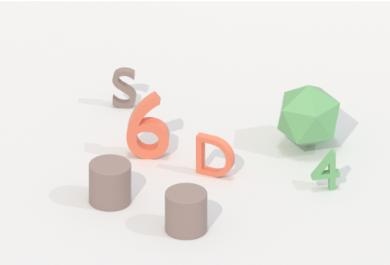0-KhoiTru: (161, 179, 214, 244), (85, 152, 136, 216)
0-TronCanh: (274, 82, 345, 149)
4: (306, 147, 344, 195)
6: (124, 90, 174, 163)
D: (193, 130, 237, 182)
S: (106, 62, 138, 111)
